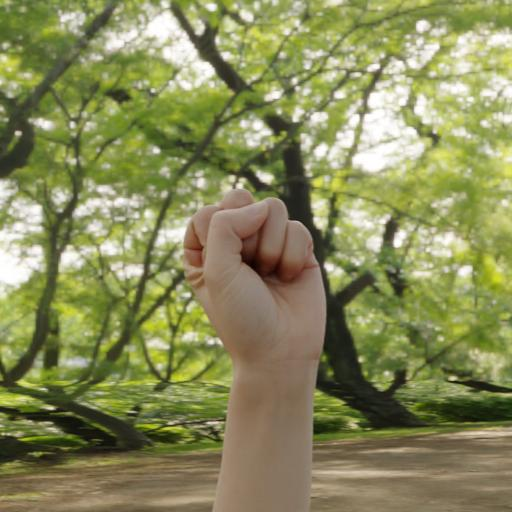S: (173, 177, 331, 364)
